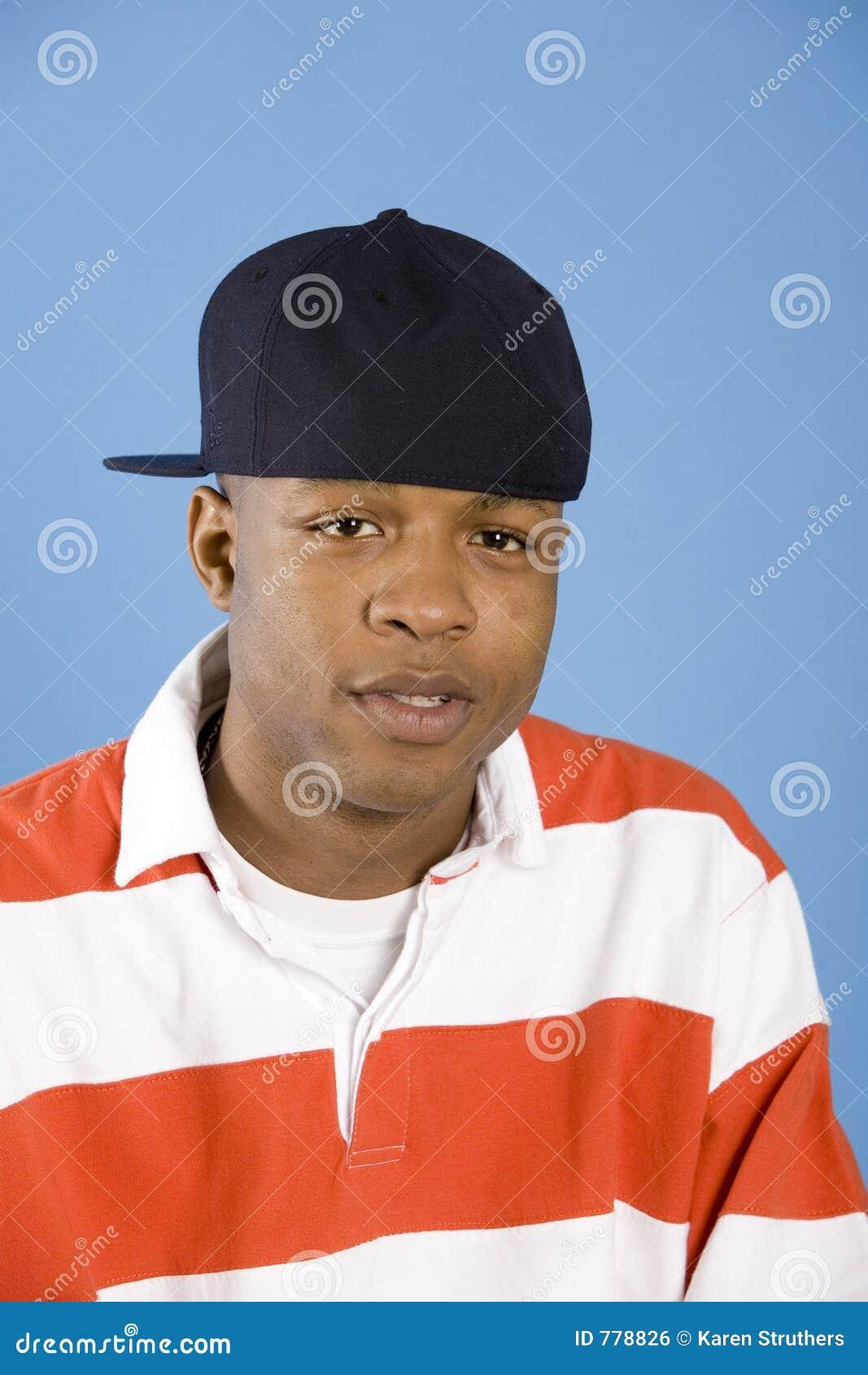cap: (98, 183, 630, 525)
